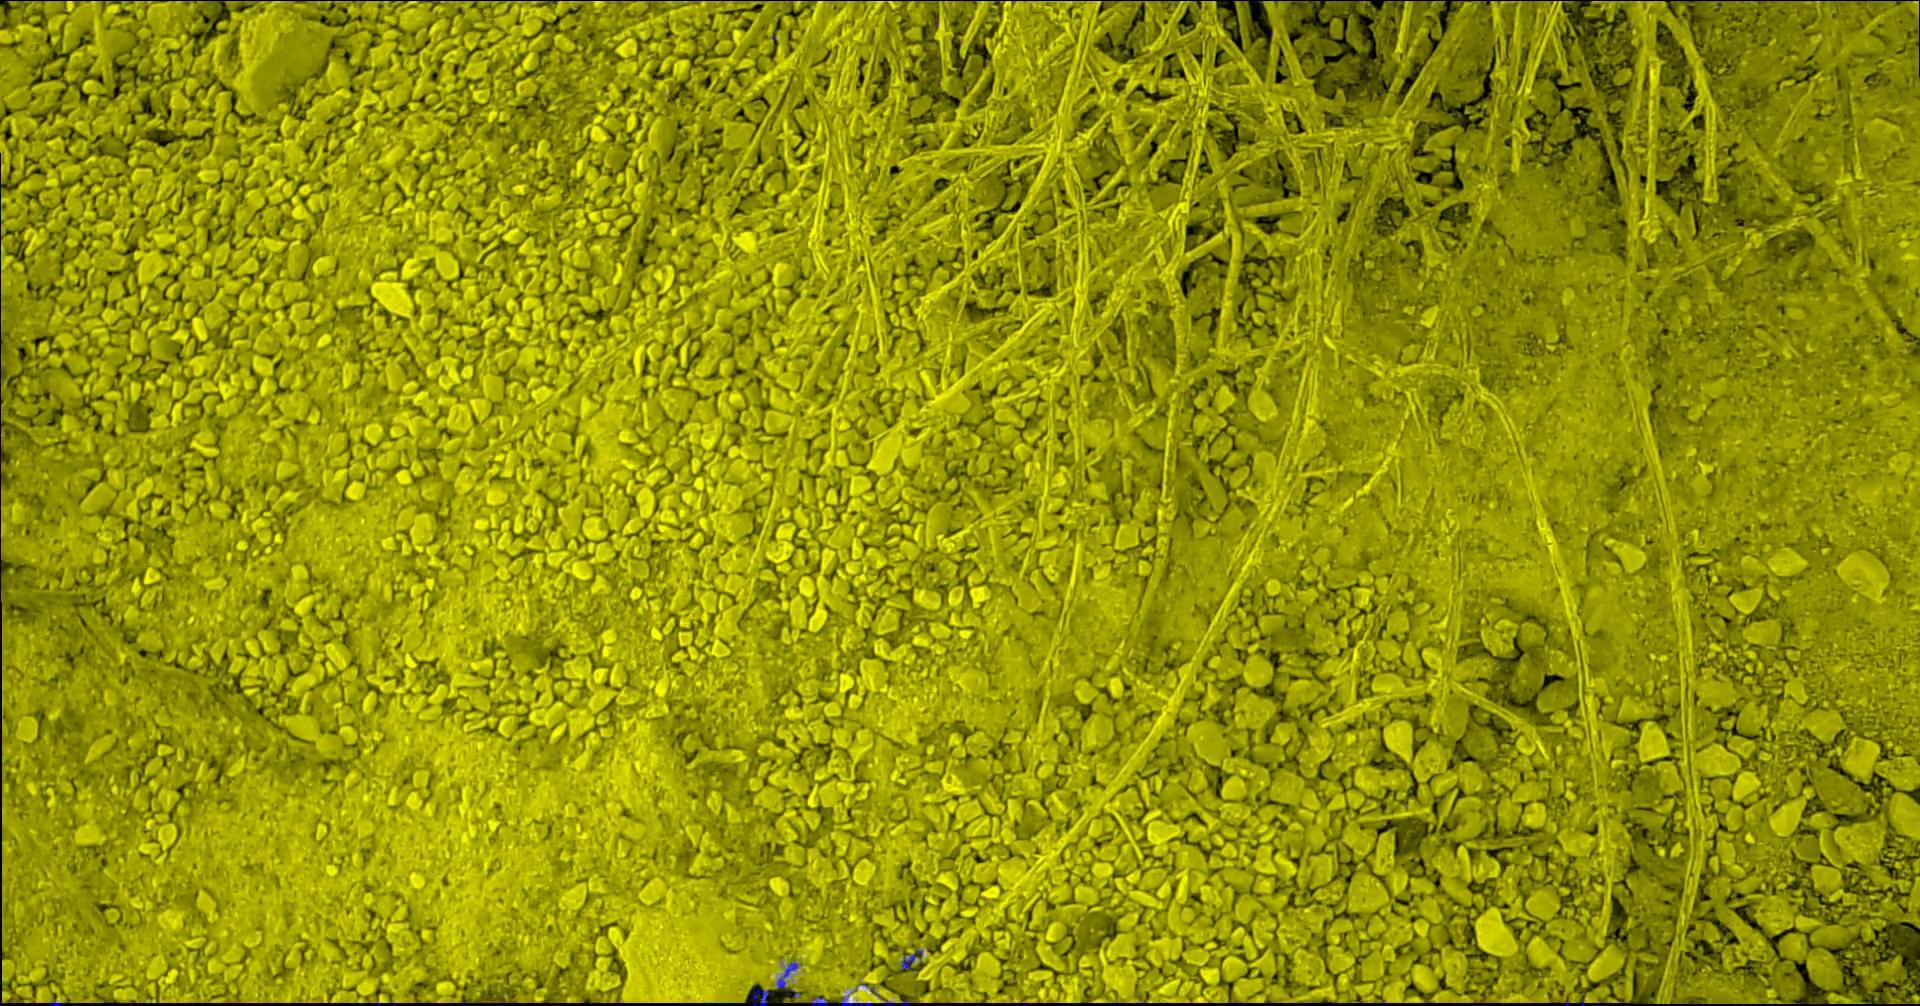ant: (778, 962, 803, 997), (902, 949, 924, 969), (753, 988, 771, 1005), (841, 996, 872, 1005), (811, 996, 836, 1005)
